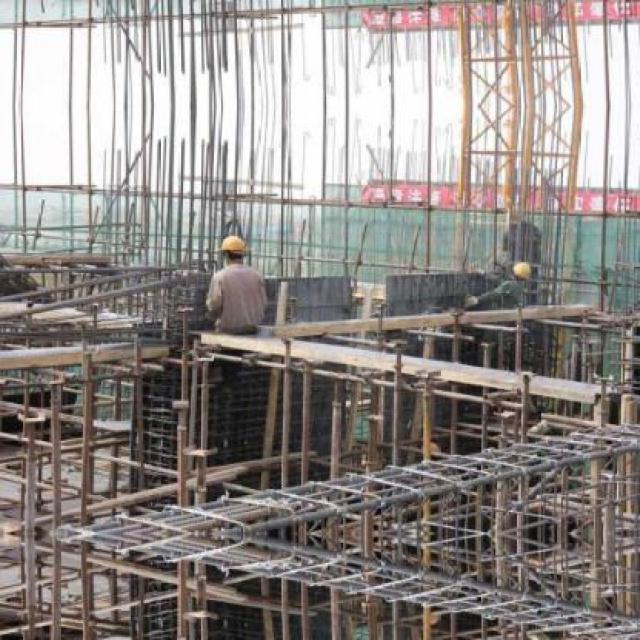helmet: (214, 227, 257, 260), (510, 256, 536, 287)
